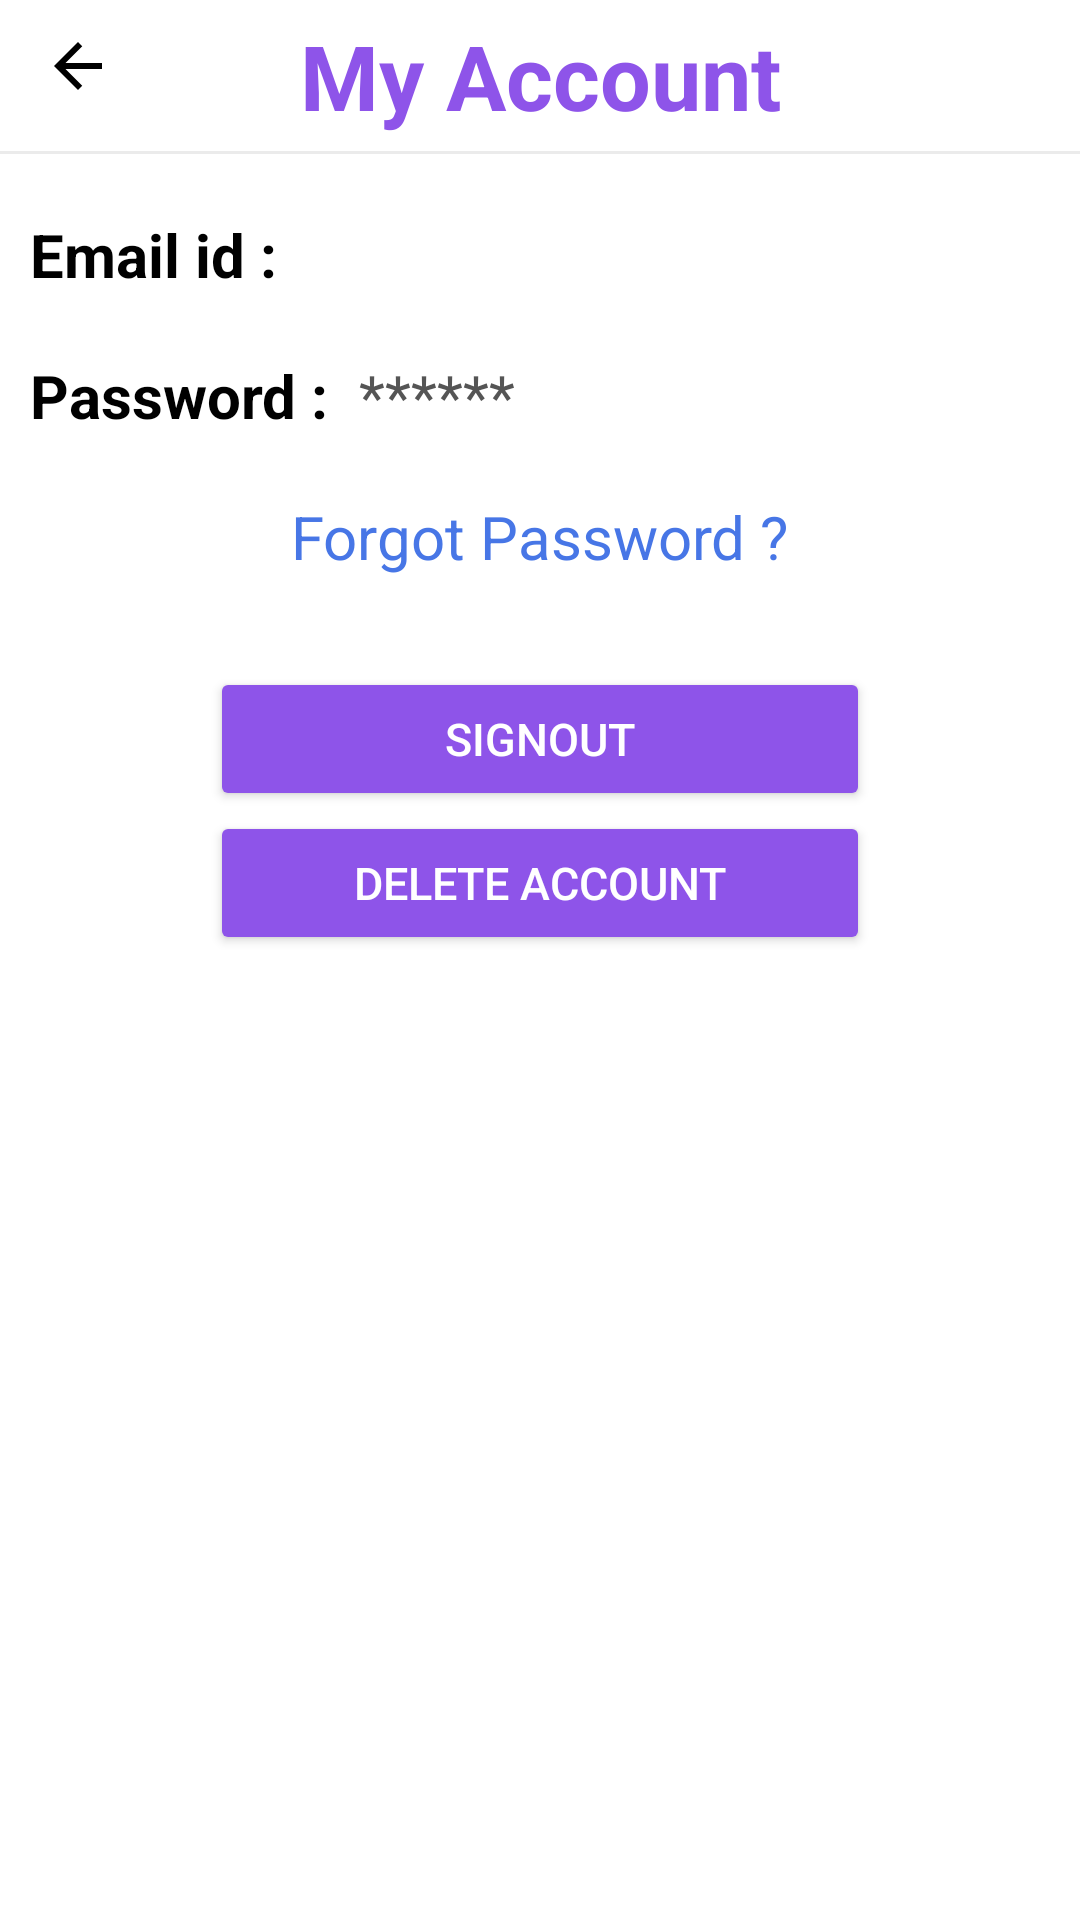

Icon bounding boxes for this 1080px×1920px phone screenshot, format [x1,y1,x2,y2]:
arrow: [54,42,102,90]
